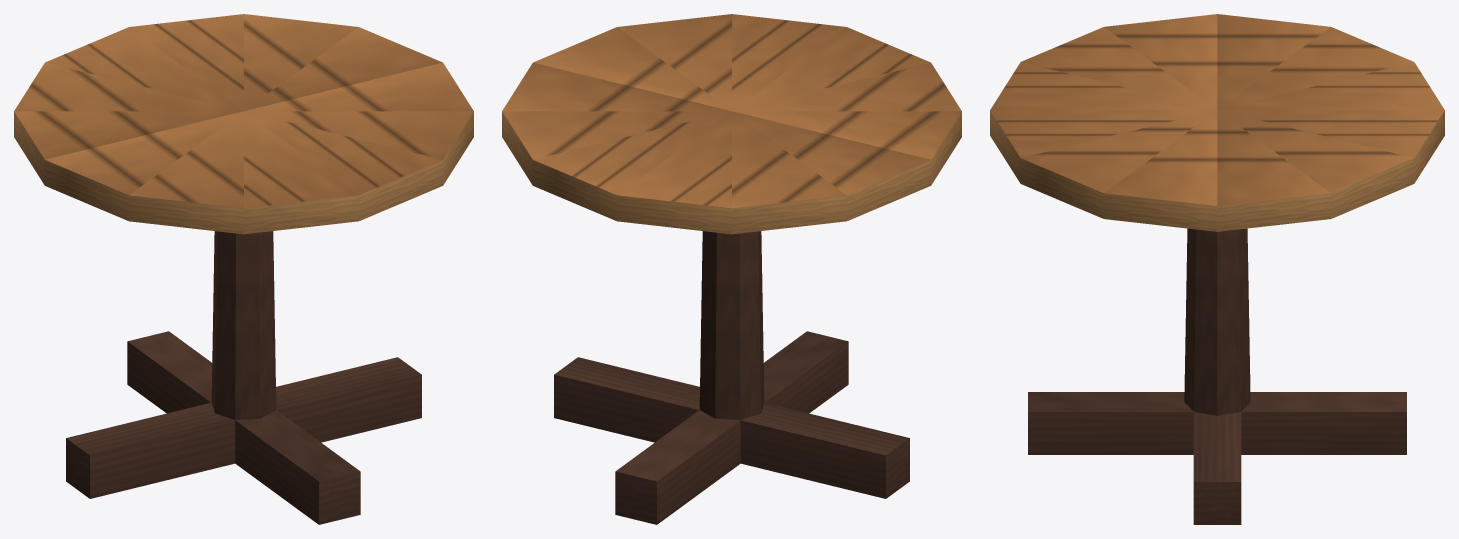
Rendered from prop_table_01.glb.
3 renders of one model, left to right at view 1: azimuth 30°, elevation 25°; view 2: azimuth 150°, elevation 25°; view 3: azimuth 270°, elevation 25°, orthographic.
Visible parts, largest first — view 1: prop_table_01; view 2: prop_table_01; view 3: prop_table_01.
Part boxes in pixels (<box>): prop_table_01: <box>14,14,473,524</box>; prop_table_01: <box>502,14,961,524</box>; prop_table_01: <box>990,14,1444,524</box>.
Bounding box in the file's own units: 0.96 × 0.78 × 0.96.
1 material, 1 textured.
